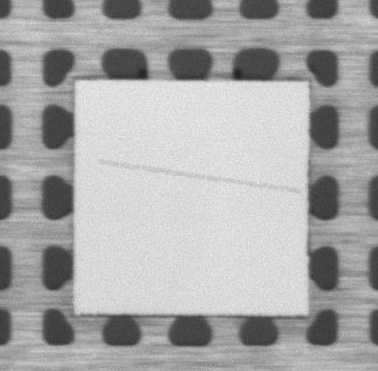DIE_CRACK: (103, 159, 305, 187)
